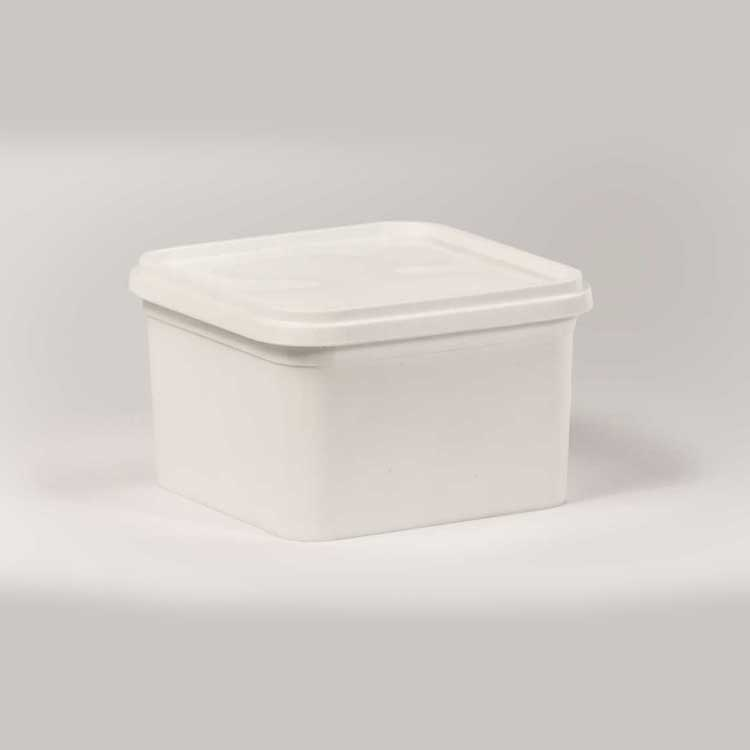PlasticBox: (119, 212, 602, 547)
